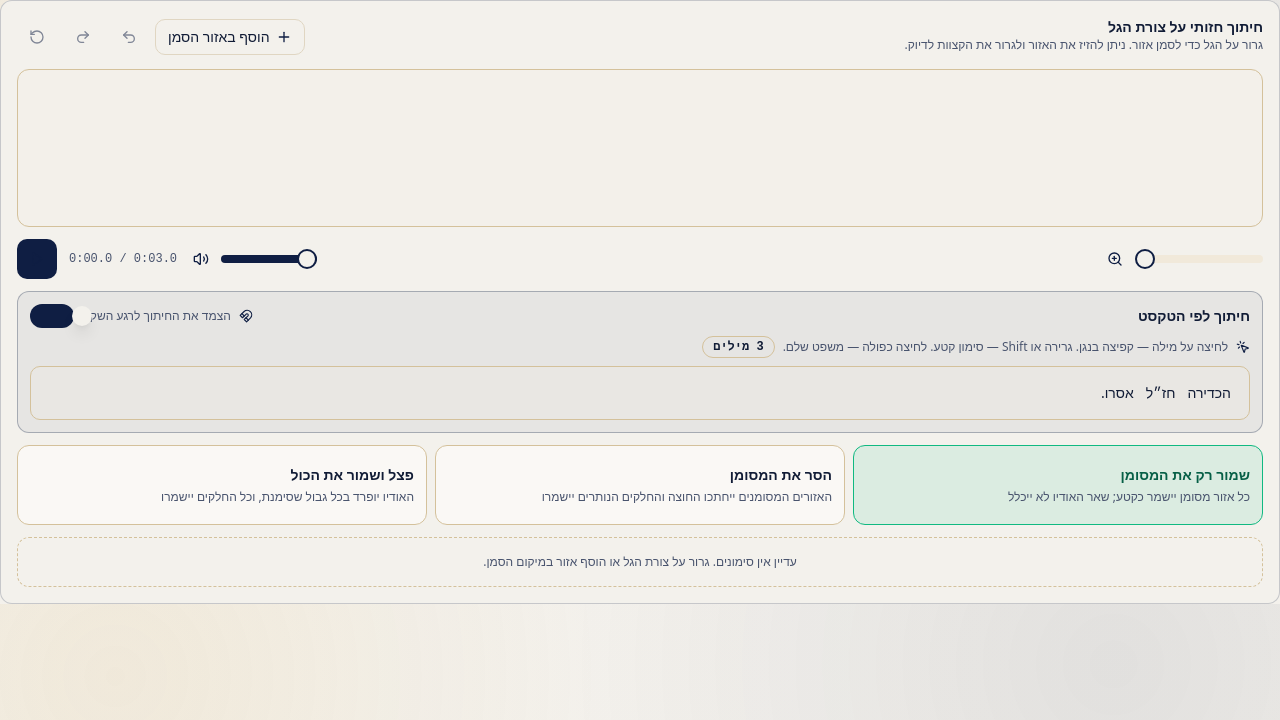
Test case: מחיקה וייצוא מתוך הטקסט › לחיצה על מחק מעבירה את העורך למצב הסרה
The image size is (1280, 720).
Press the mouse on the button "הכדירה" at (1209, 393), box [1183, 381, 1235, 405]
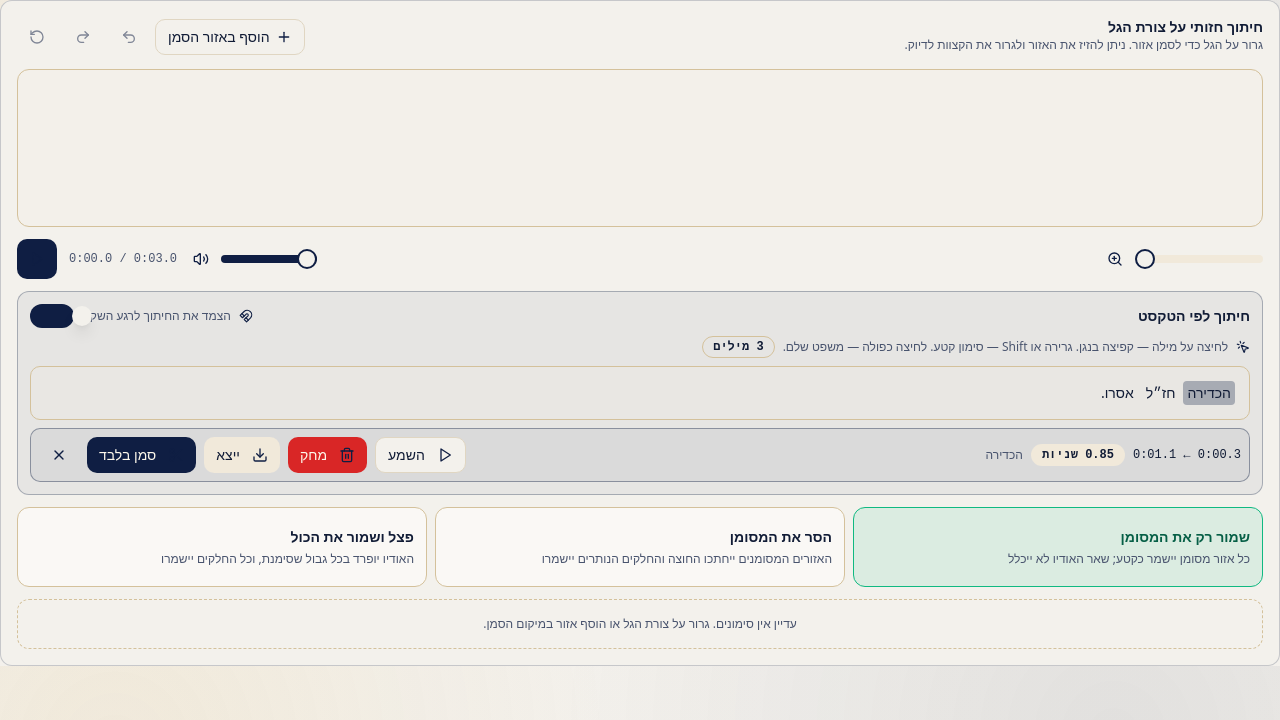
Click the button with test id "delete-selection" at (328, 455), box [288, 437, 367, 473]
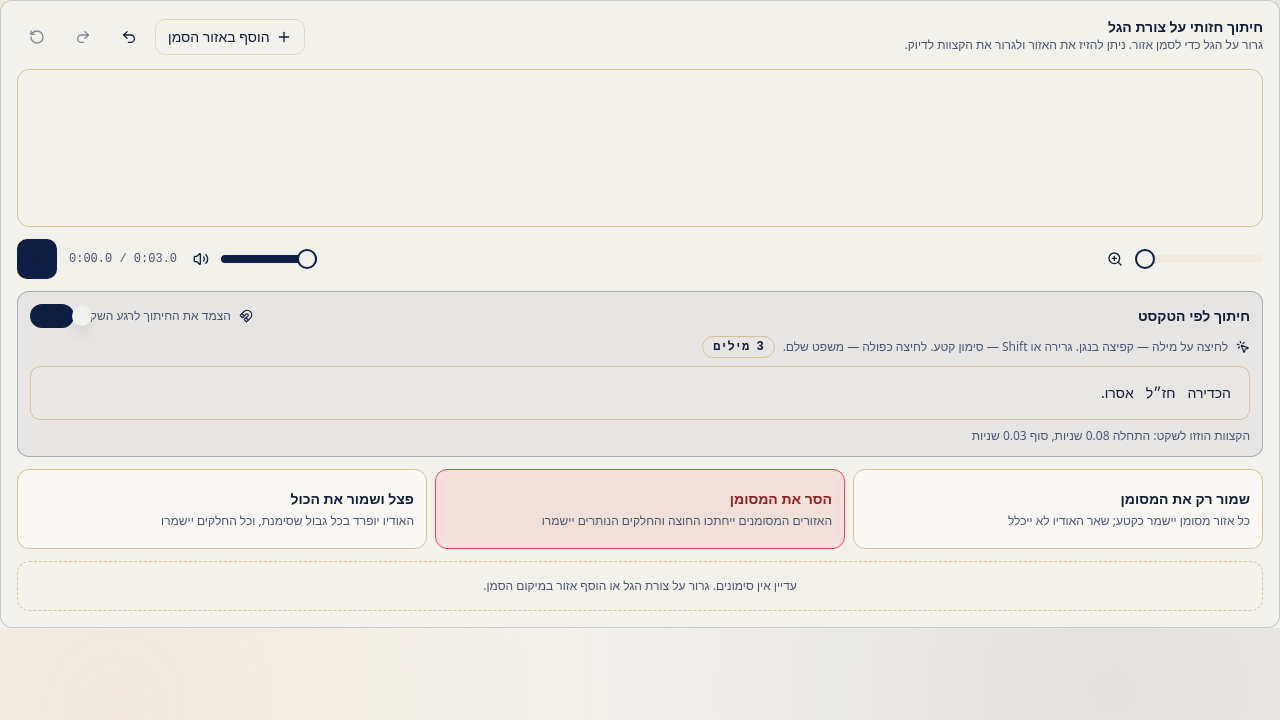
Check: the radio button labelled "הסר את המסומן" is checked, box [435, 469, 845, 549]
